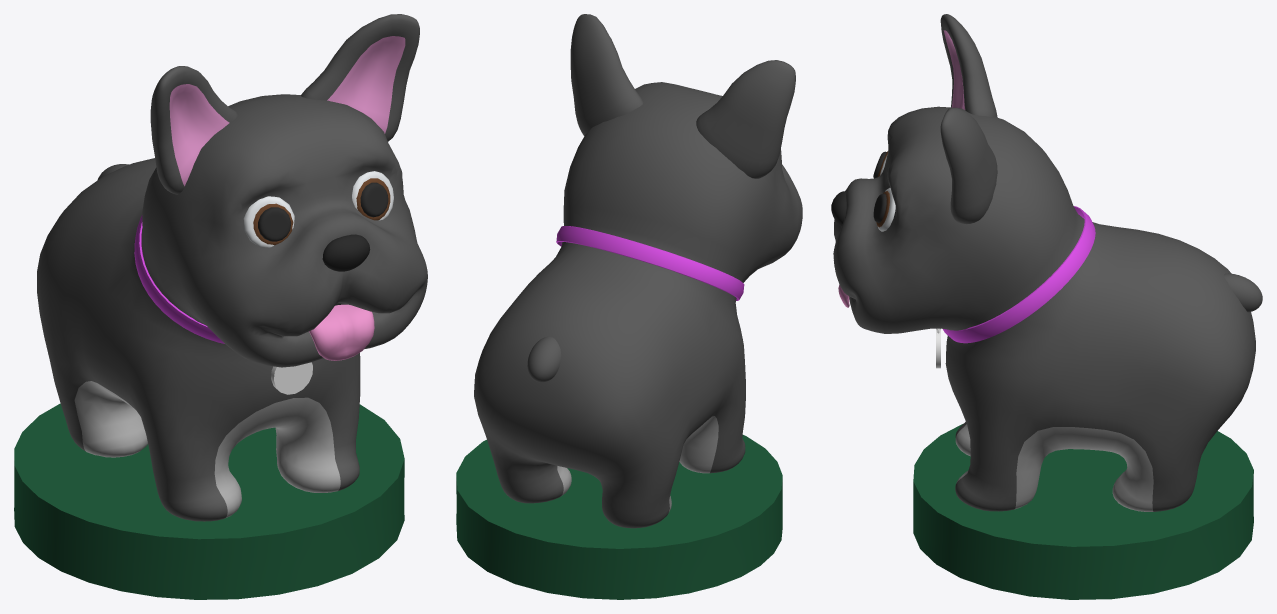
The model's file is Dog2.glb.
The picture shows the model from 3 angles, left to right: view 1: azimuth 30°, elevation 25°; view 2: azimuth 150°, elevation 25°; view 3: azimuth 270°, elevation 25°; orthographic projection. The views are drawn at different scales.
Parts seen in each view (by area): view 1: FB_Body, FB_Floor, FB_Ears, FB_Tongue, FB_Pupils, FB_Collar, FB_Nose, FB_Eyes, FB_Metall, FB_Iris; view 2: FB_Body, FB_Floor, FB_Ears, FB_Collar, FB_Tail; view 3: FB_Body, FB_Floor, FB_Ears, FB_Collar, FB_Tail.
Part boxes in pixels (<box>): FB_Body: <box>37,94,427,521</box>; FB_Floor: <box>14,403,404,599</box>; FB_Ears: <box>150,14,419,194</box>; FB_Tongue: <box>309,304,374,360</box>; FB_Pupils: <box>258,182,388,241</box>; FB_Collar: <box>134,215,224,343</box>; FB_Nose: <box>322,234,370,271</box>; FB_Eyes: <box>243,171,393,247</box>; FB_Metall: <box>271,362,312,394</box>; FB_Iris: <box>253,178,390,245</box>; FB_Body: <box>474,82,802,528</box>; FB_Floor: <box>456,435,782,599</box>; FB_Ears: <box>570,14,795,178</box>; FB_Collar: <box>556,226,744,300</box>; FB_Tail: <box>527,336,561,382</box>; FB_Body: <box>833,106,1255,511</box>; FB_Floor: <box>913,424,1253,599</box>; FB_Ears: <box>940,14,997,224</box>; FB_Collar: <box>943,206,1095,343</box>; FB_Tail: <box>1224,273,1262,312</box>.
Size of the model in its own units: 0.9981 by 1.5 by 1.26.
